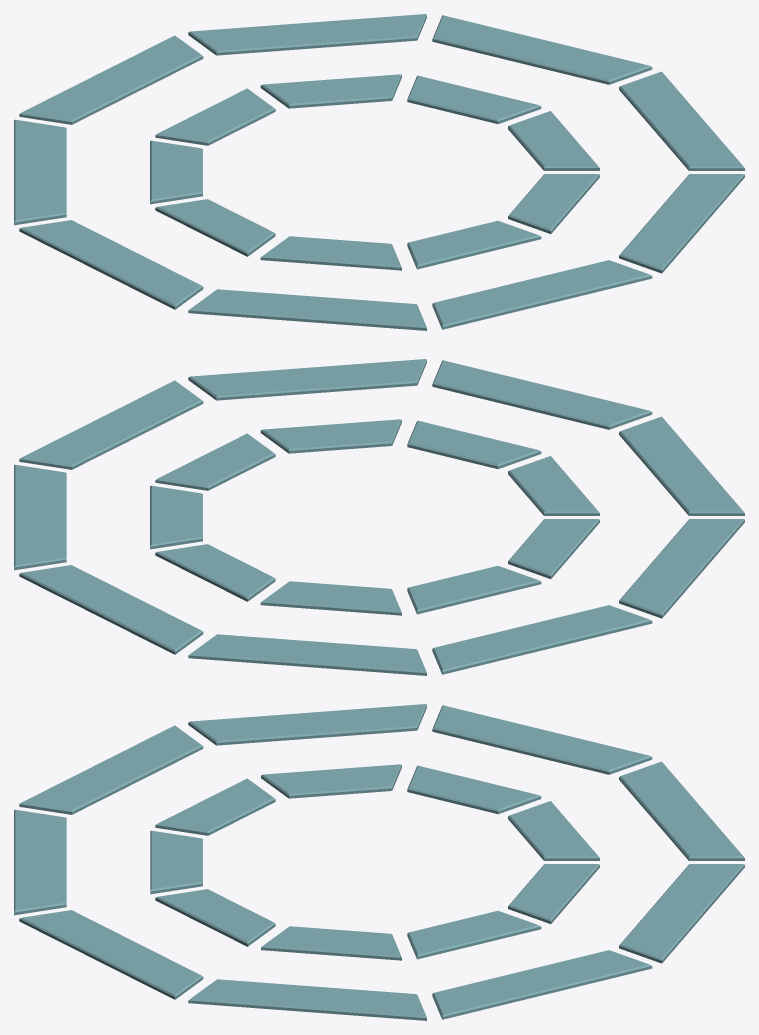
The model's file is floor_details.fbx.
The picture shows the model from 3 angles, top to bottom: view 1: azimuth 30°, elevation 25°; view 2: azimuth 150°, elevation 25°; view 3: azimuth 270°, elevation 25°; orthographic projection.
Parts seen in each view (by area): view 1: floor_details; view 2: floor_details; view 3: floor_details.
Part boxes in pixels (x1,y1,x2,y2): floor_details: (14,14,744,330); floor_details: (14,359,744,675); floor_details: (14,704,744,1020).
Bounding box in the file's own units: 1921 × 11.54 × 1892.
